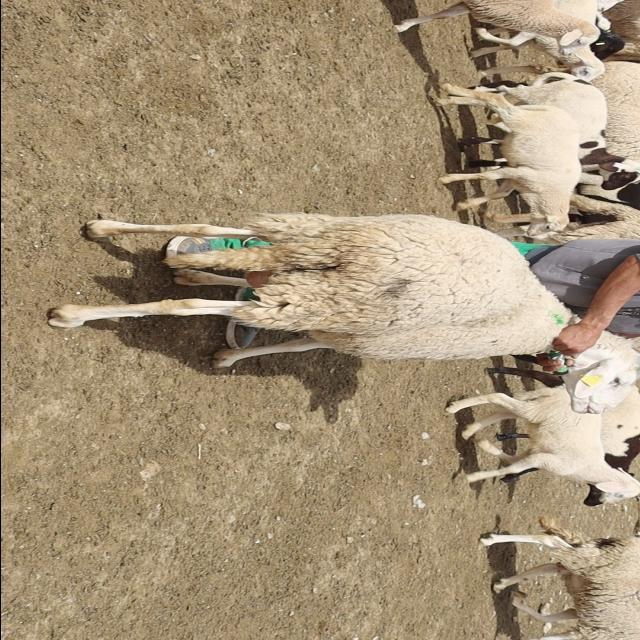Score_3: (47, 213, 640, 414)
